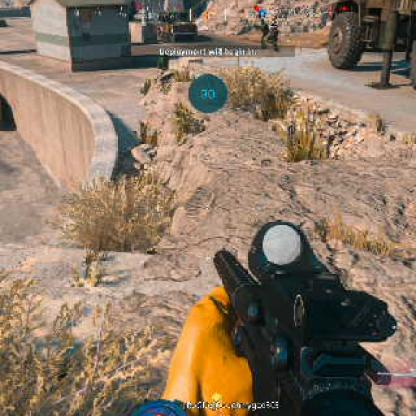enemy: (256, 18, 270, 52)
